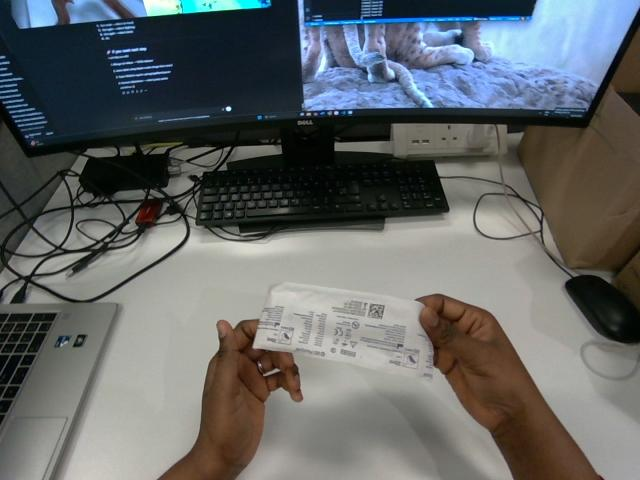syringe: (253, 283, 433, 378)
